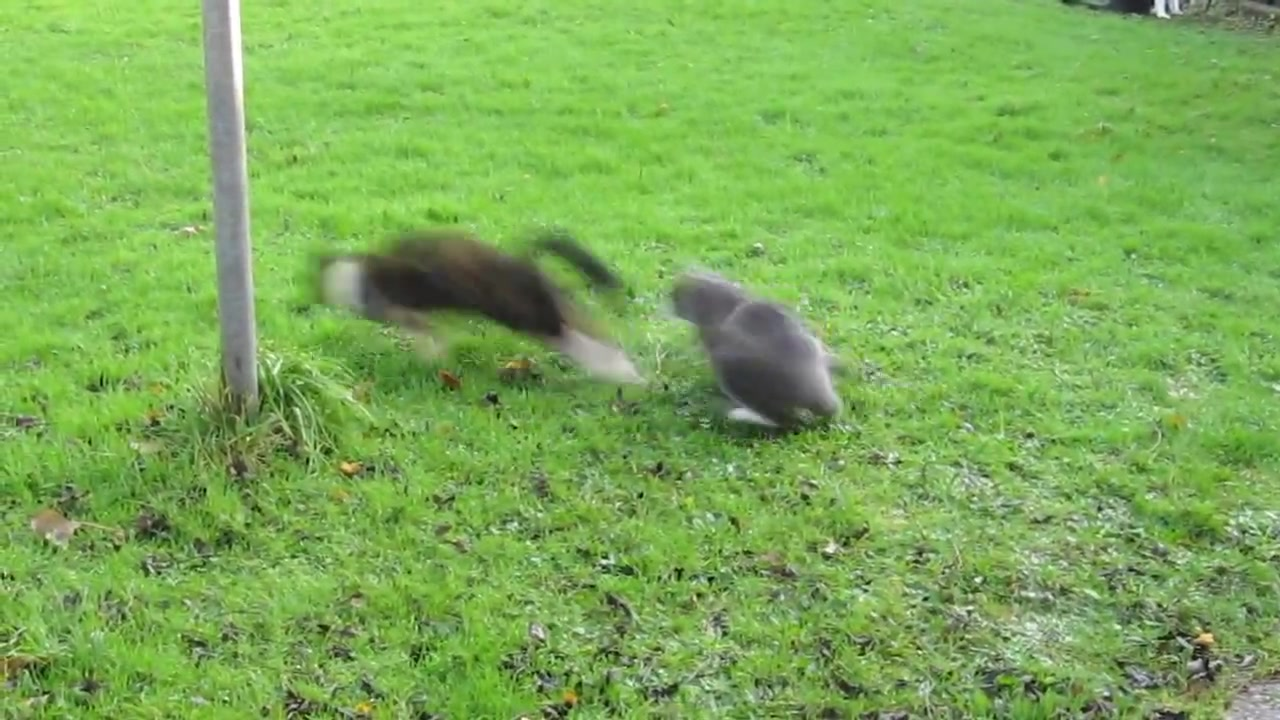cat: (307, 227, 652, 390)
